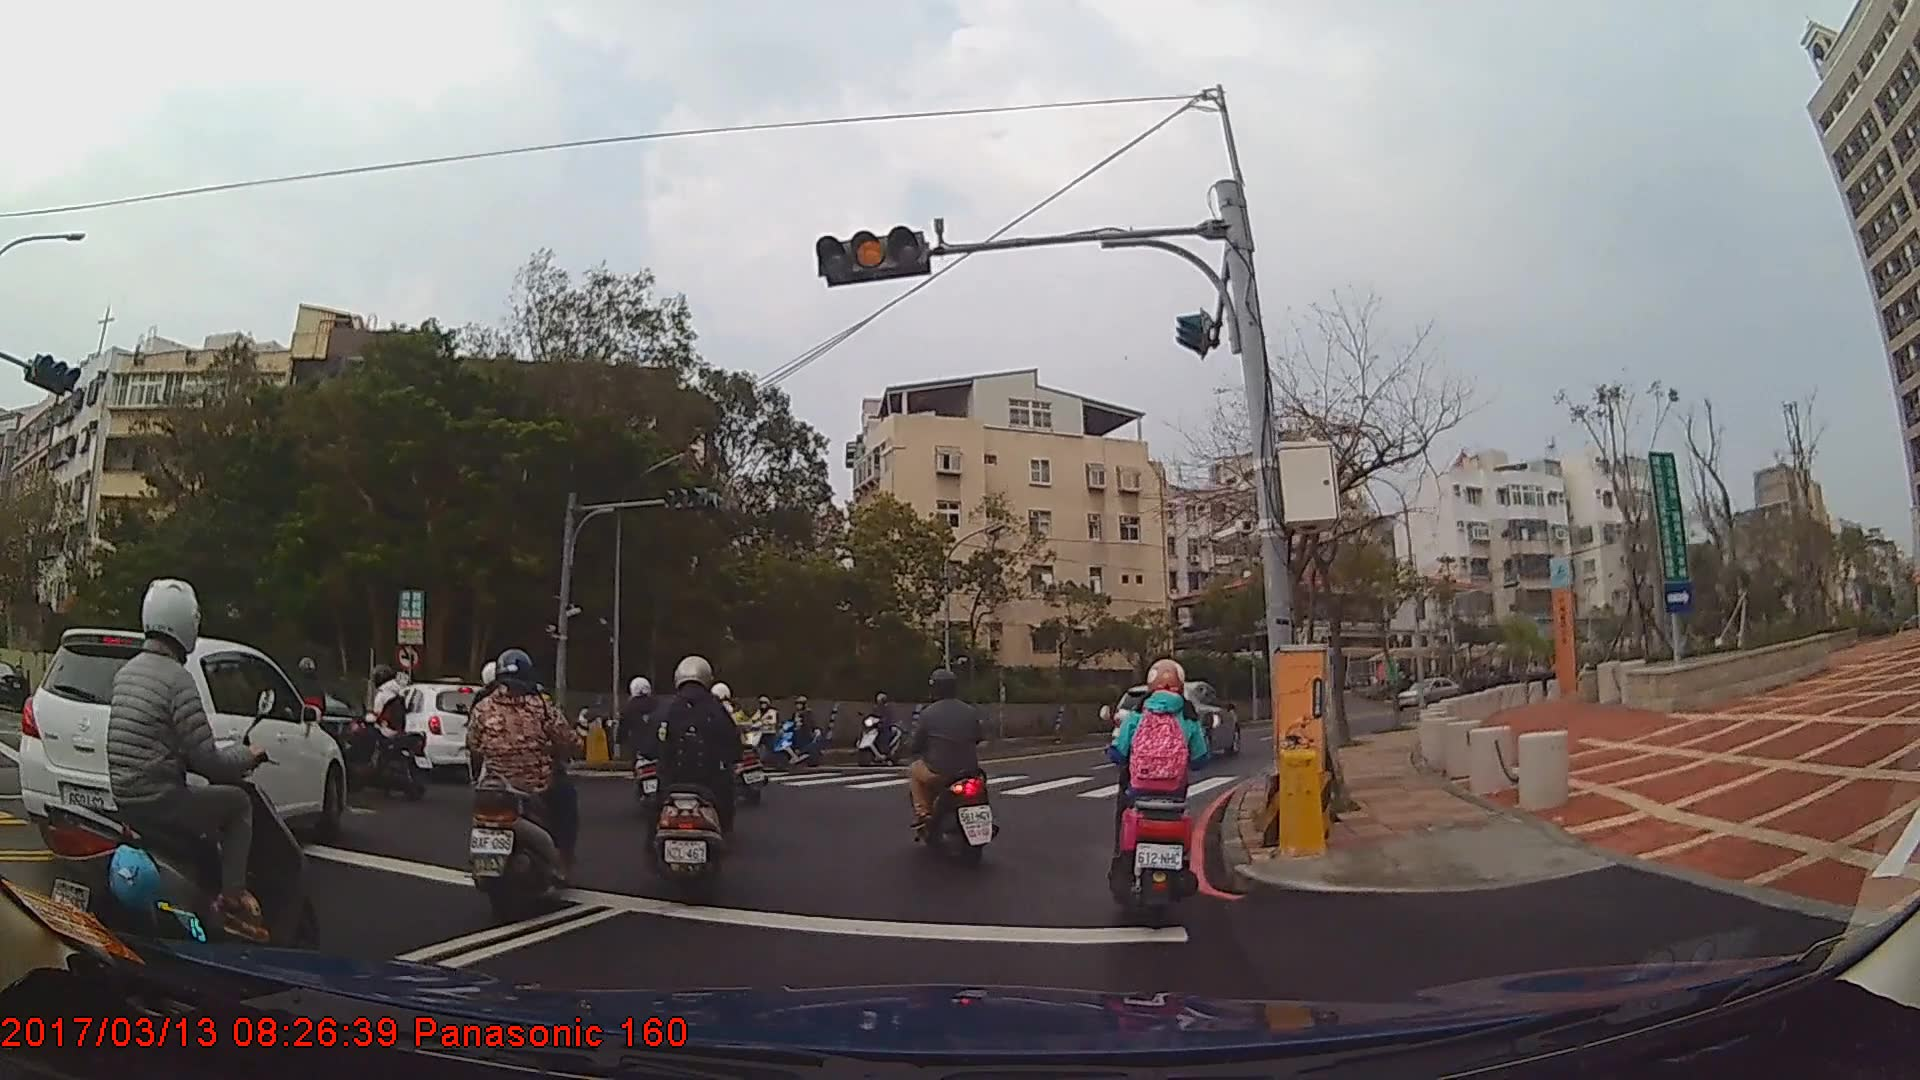rider: (33, 576, 322, 994), (464, 648, 586, 923), (1111, 657, 1217, 925), (643, 656, 745, 906), (902, 663, 995, 865), (604, 676, 681, 822), (273, 652, 338, 787), (347, 662, 415, 790), (853, 694, 906, 768), (744, 693, 787, 767), (779, 694, 822, 766)
vehicle: (16, 625, 345, 862), (361, 679, 501, 779), (1112, 680, 1240, 766), (1391, 673, 1461, 710)
